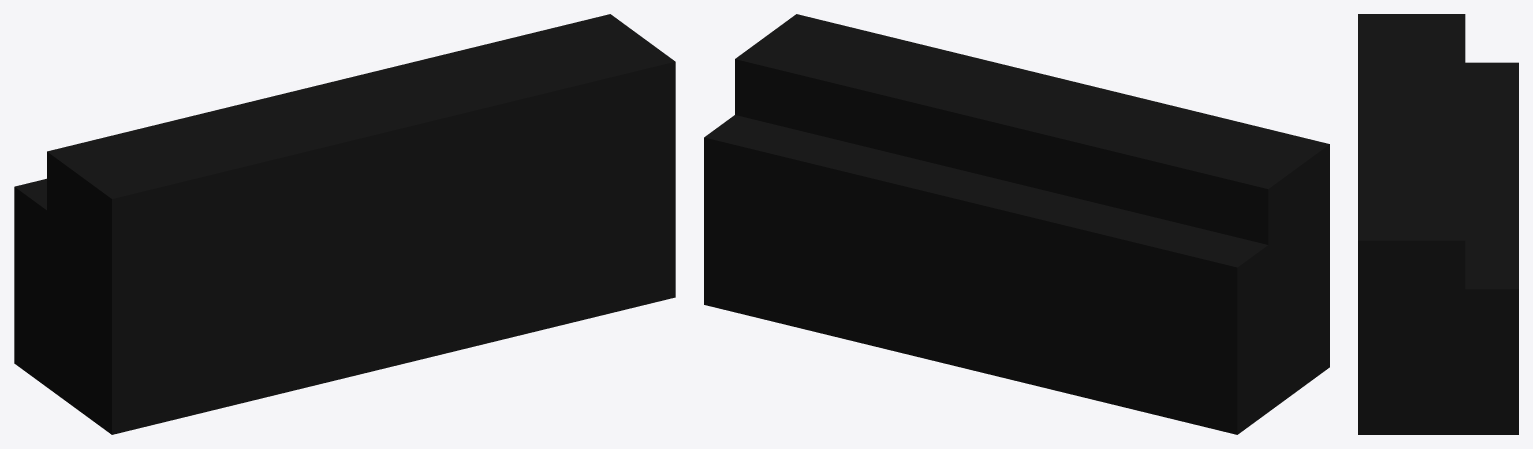
Rendered from waist modeling.obj.
The picture shows the model from 3 angles, left to right: view 1: azimuth 30°, elevation 25°; view 2: azimuth 150°, elevation 25°; view 3: azimuth 270°, elevation 25°; orthographic projection. The views are drawn at different scales.
Size of the model in its own units: 1 by 0.4 by 0.3.
Materials: 1 (1 with a texture image).
